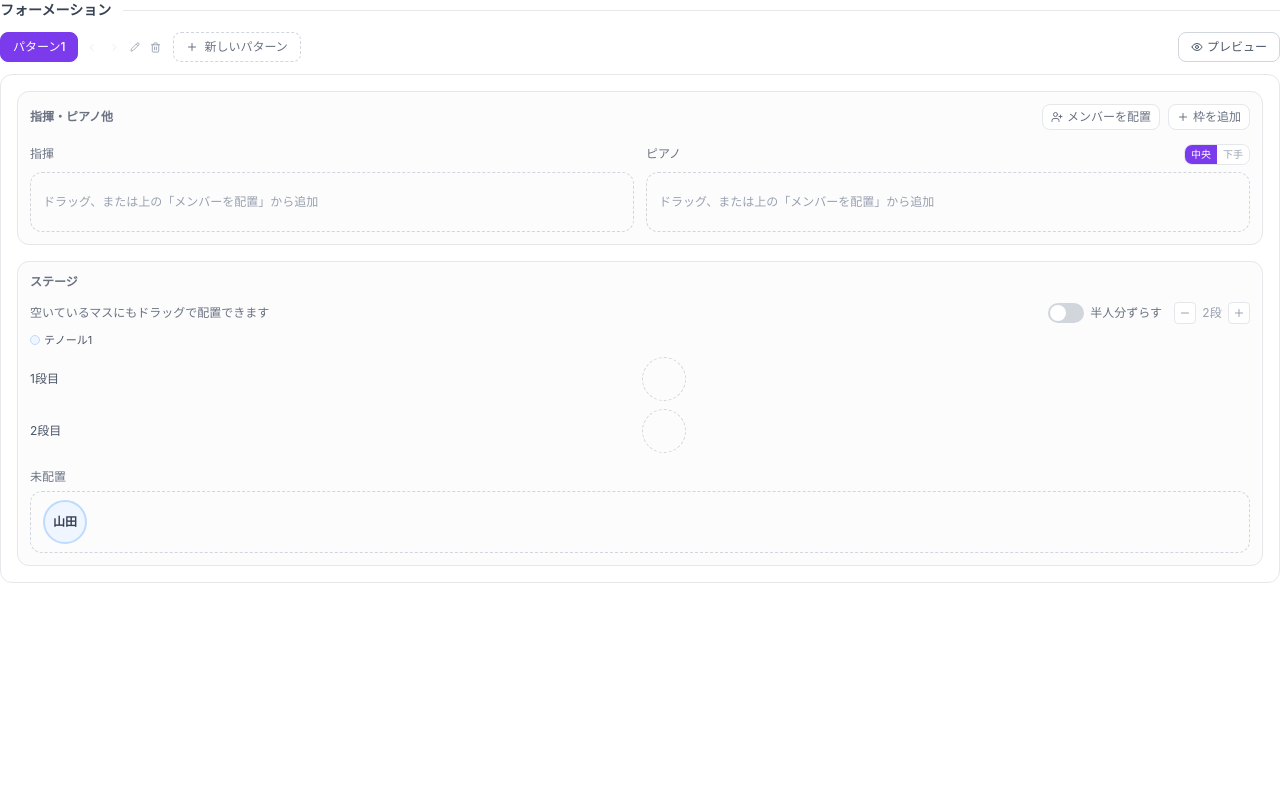
Test: OnstageTab（パターンCRUD） › 削除を確認でキャンセルするとdeleteFormationPatternを呼ばない
This screenshot has width=1280, height=800.
Click the button titled "削除" at (156, 47), box [146,38,165,56]
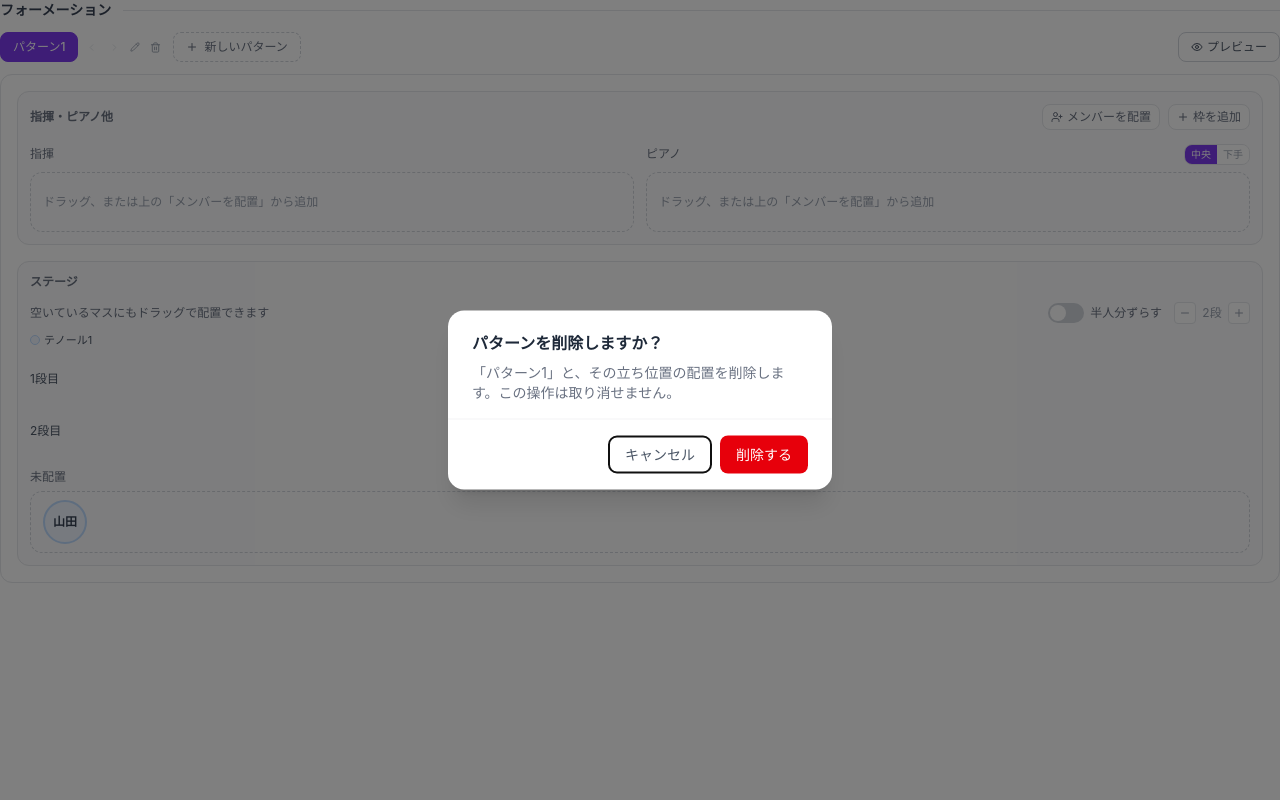
Click the button "キャンセル" at (660, 454), box [608,436,712,474]
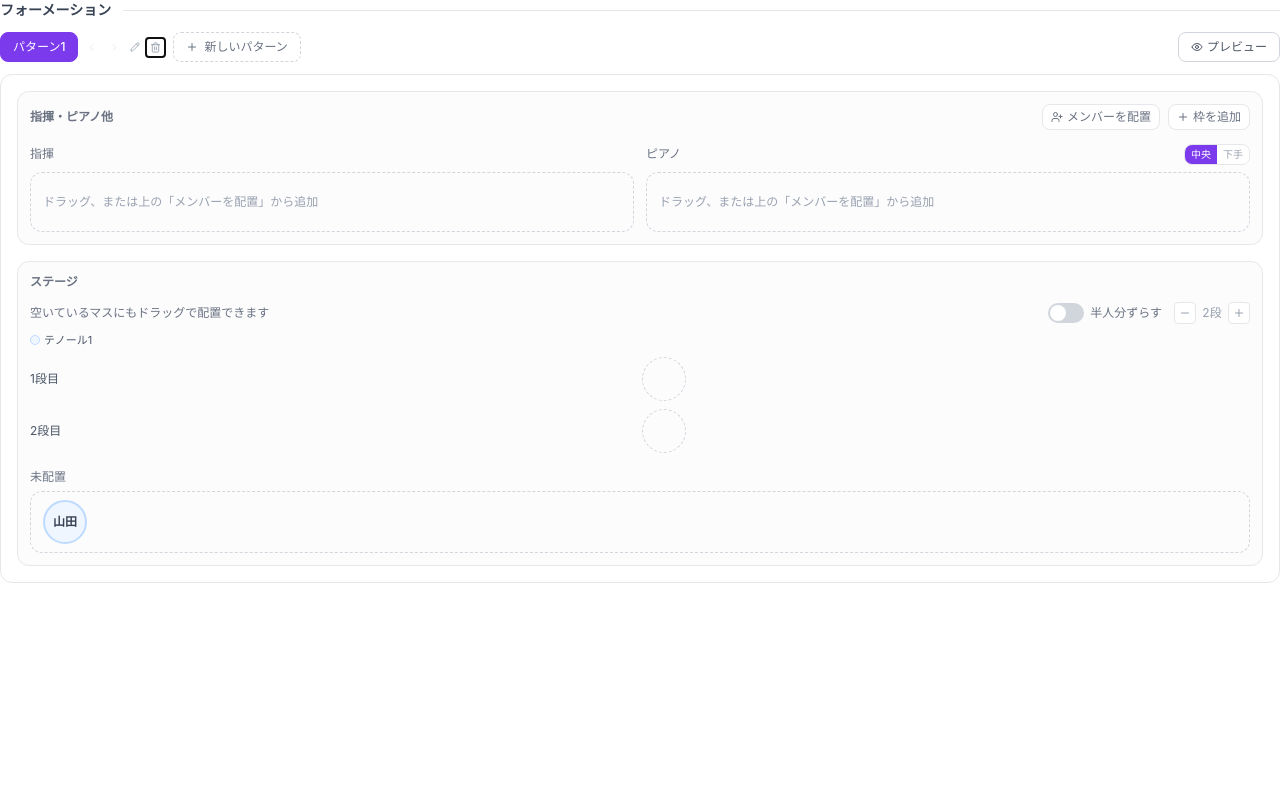
Expected: the dialog is gone
